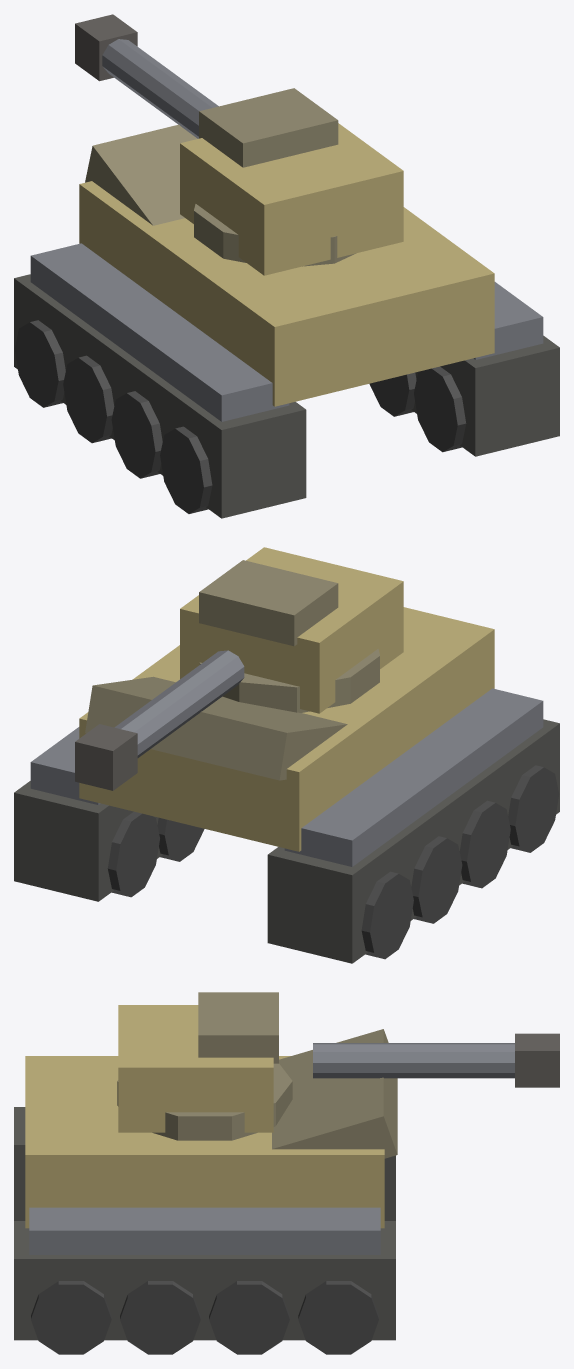
File: dm_wolverine.glb
The picture shows the model from 3 angles, top to bottom: view 1: azimuth 30°, elevation 25°; view 2: azimuth 150°, elevation 25°; view 3: azimuth 270°, elevation 25°; orthographic projection. The views are drawn at different scales.
Parts seen in each view (by area): view 1: hull, turret; view 2: hull, turret; view 3: hull, turret.
Boxes of the visible parts, x1,y1,x2,y2 form: hull: (14,124,559,518); turret: (75,14,403,275); hull: (14,607,559,963); turret: (75,547,403,790); hull: (14,1029,397,1354); turret: (117,992,559,1140).
Bounding box in the file's own units: 0.84 × 0.6406 × 1.22.
